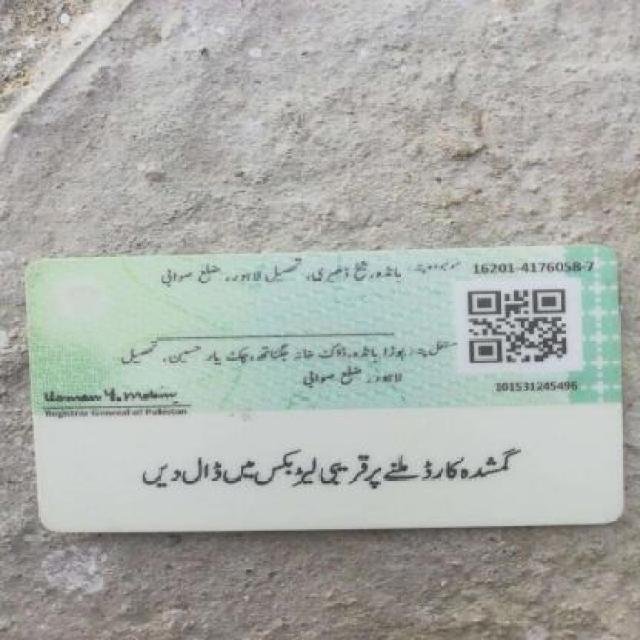Back: (17, 242, 626, 532)
